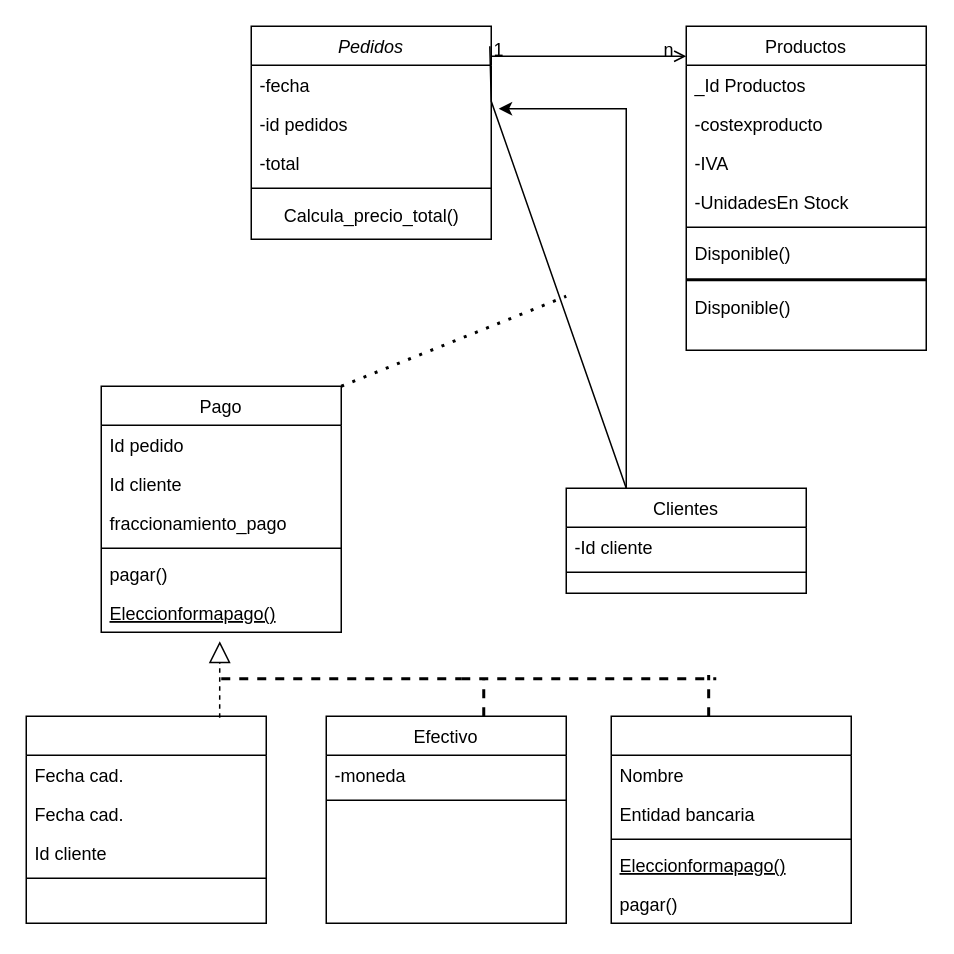
The diagram is 954 pixels wide and 954 high, and some of its shapes have lost their labels. Each missing label, with the box of its shape:
Cheque: (610, 715, 851, 923)
Tarjeta_credito: (25, 715, 266, 923)
